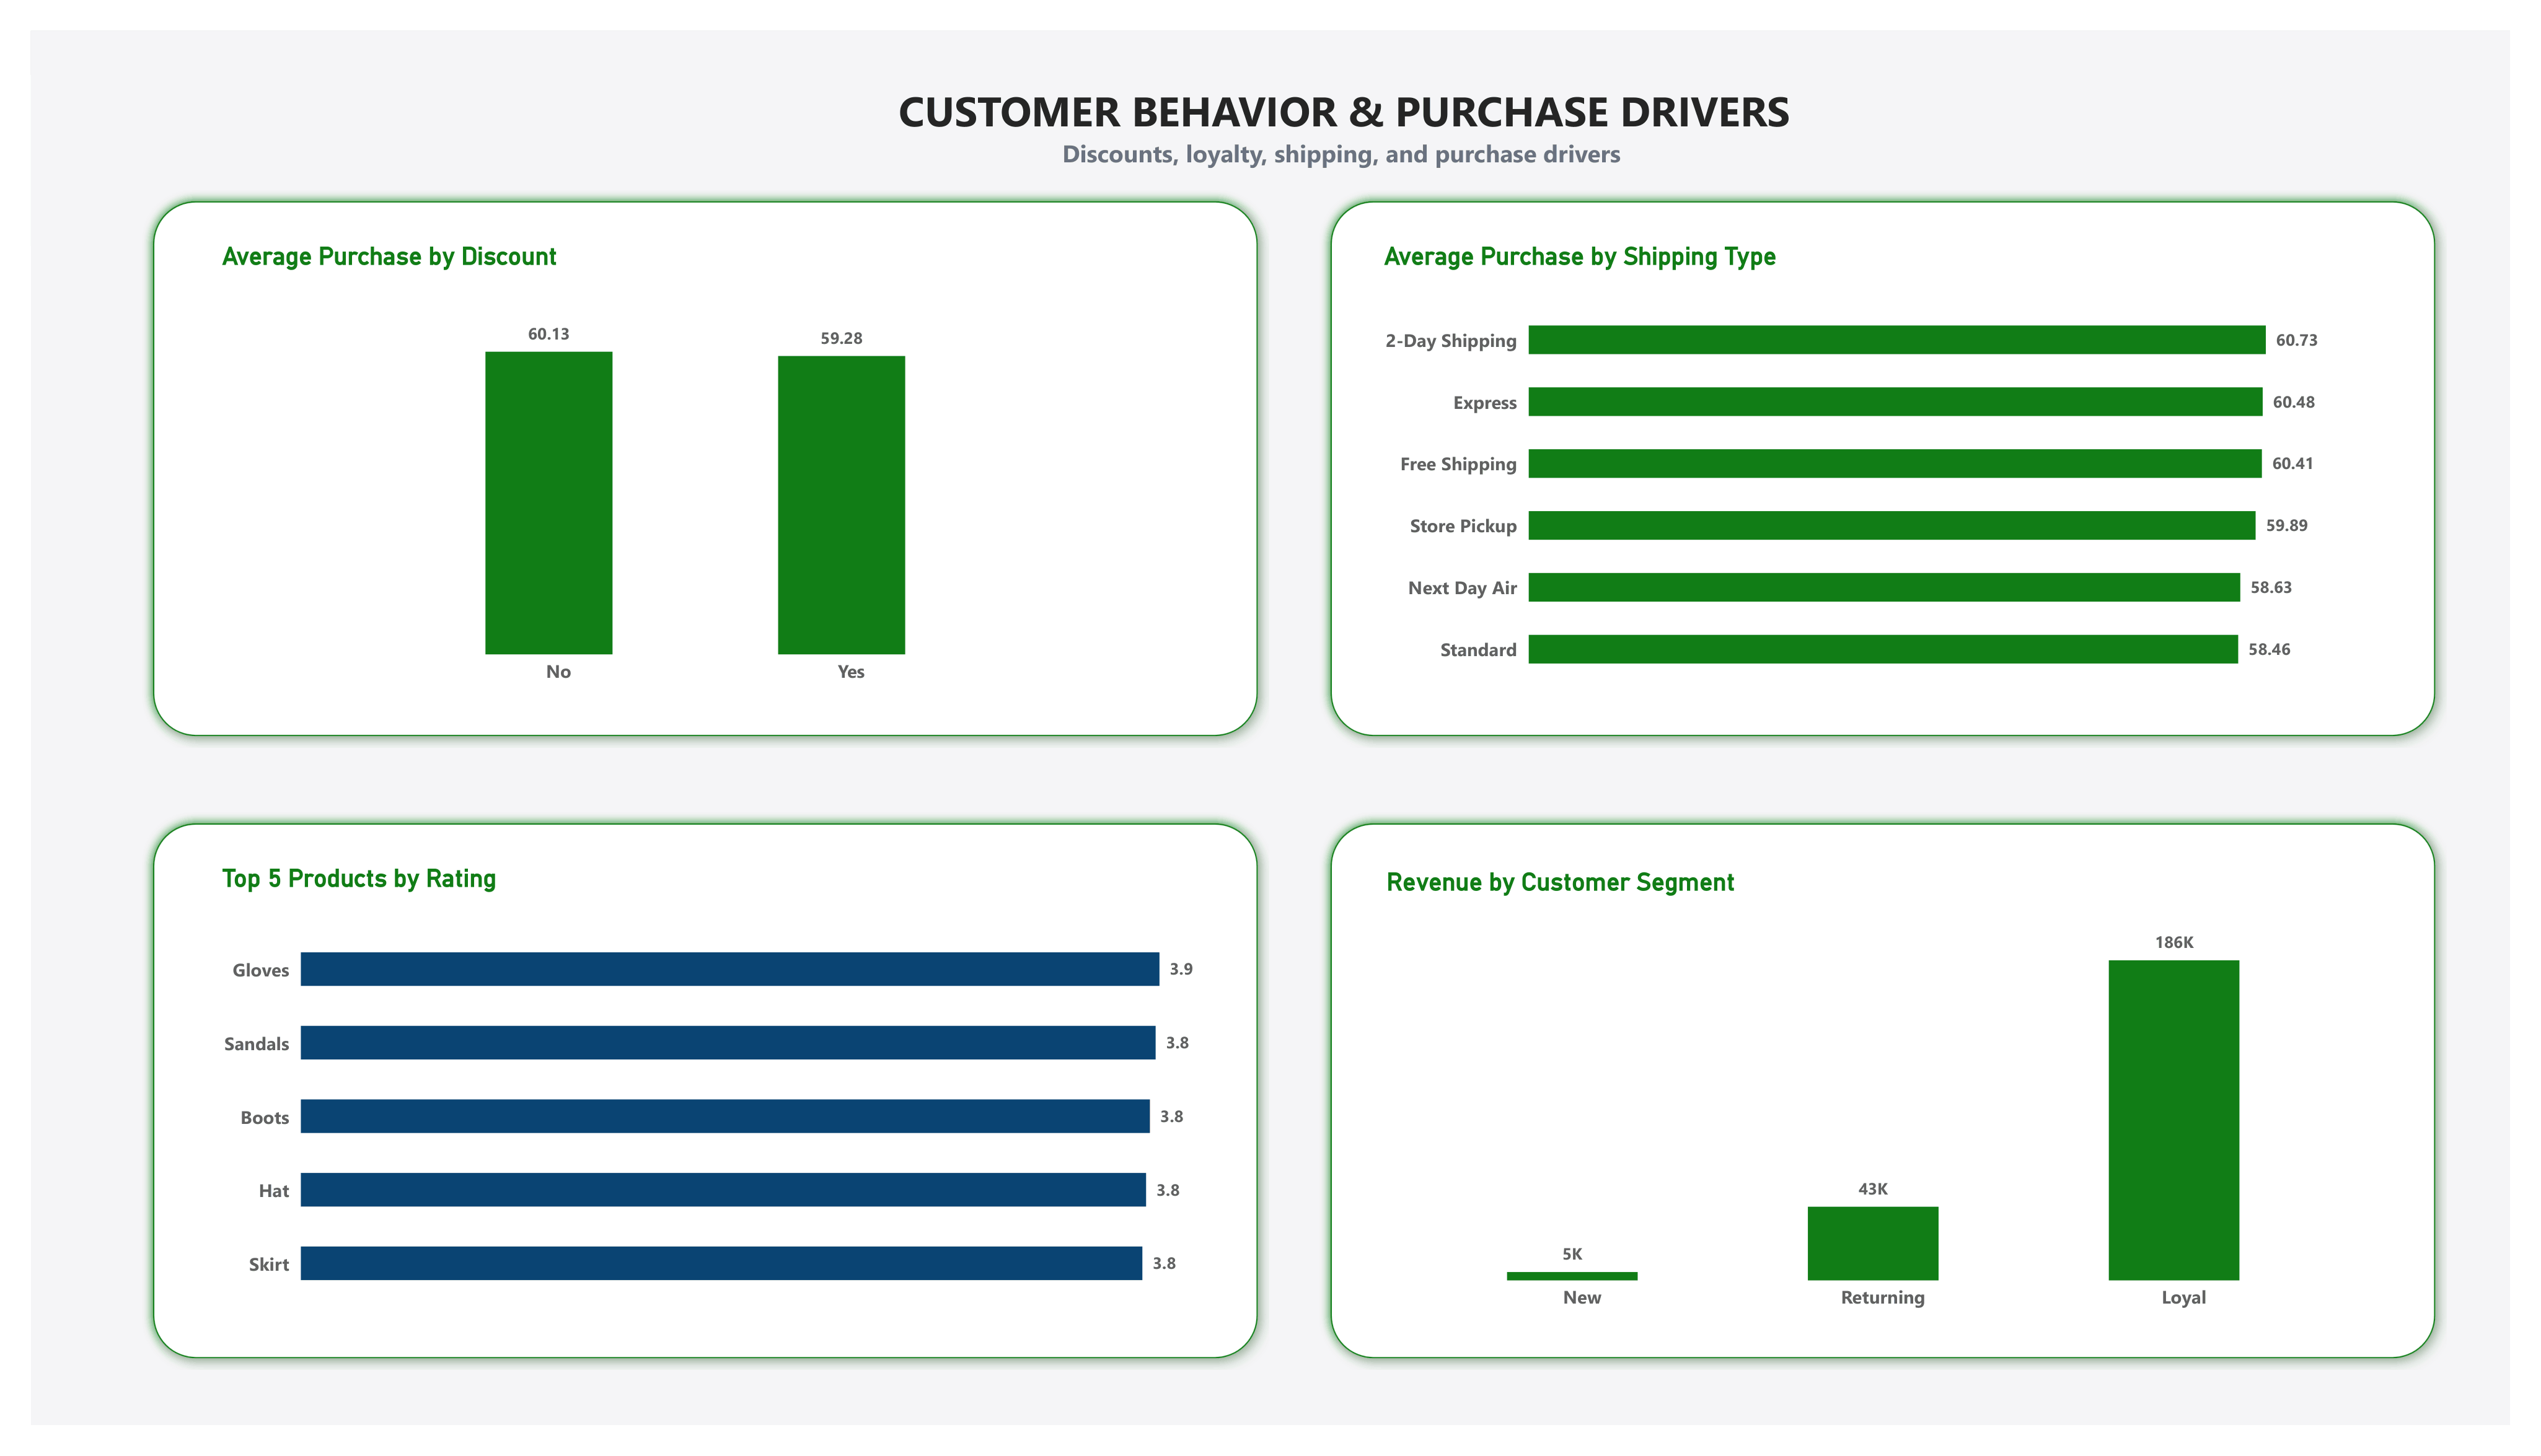

This screenshot's page, from the dashboard's own definition file:
{"tool":"powerbi","page":{"name":"Customer Behavior & Purchase Drivers","canvas":[1920,1080],"ordinal":1},"visuals":[{"type":"textbox","box":[671.8,38.9,704.2,43.2],"z":0},{"type":"textbox","box":[680.4,82.1,669.6,30.2],"z":1000},{"type":"shape","box":[86.4,604.8,872.6,432],"z":2000},{"type":"shape","box":[997.9,604.8,872.6,432],"z":3000},{"type":"shape","box":[86.4,123.1,872.6,432],"z":5000},{"type":"shape","box":[997.9,123.1,872.6,432],"z":7000},{"type":"clusteredBarChart","title":"Top 5 Products by Rating","fields":{"Category":["public customer.item_purchased"],"Y":["Avg(public customer.review_rating)"]},"box":[131.8,630.7,784.1,378],"z":8000},{"type":"clusteredColumnChart","title":"Average Purchase by Discount","fields":{"Category":["public customer.discount_applied"],"Y":["Avg(public customer.purchase_amount)"]},"box":[131.8,149,779.8,378],"z":8001},{"type":"clusteredBarChart","title":"Average Purchase by Shipping Type","fields":{"Category":["public customer.shipping_type"],"Y":["Avg(public customer.purchase_amount)"]},"box":[1032.5,149,801.4,378],"z":8002},{"type":"clusteredColumnChart","title":"Revenue by Customer Segment","fields":{"Category":["public customer.Customer Segment"],"Y":["Sum(public customer.purchase_amount)"]},"box":[1033.5,633.5,801.4,378],"z":8003}]}

Visuals, with their boxes on the page's 1920x1080 design canvas (x1, y1, x2, y2). These are canvas units, not pixel positions in the 2541x1456 screenshot, which may show the page scaled, cropped or inside an application window:
textbox: {"x1": 672, "y1": 39, "x2": 1376, "y2": 82}
textbox: {"x1": 680, "y1": 82, "x2": 1350, "y2": 112}
shape: {"x1": 86, "y1": 605, "x2": 959, "y2": 1037}
shape: {"x1": 998, "y1": 605, "x2": 1870, "y2": 1037}
shape: {"x1": 86, "y1": 123, "x2": 959, "y2": 555}
shape: {"x1": 998, "y1": 123, "x2": 1870, "y2": 555}
"Top 5 Products by Rating" clusteredBarChart: {"x1": 132, "y1": 631, "x2": 916, "y2": 1009}
"Average Purchase by Discount" clusteredColumnChart: {"x1": 132, "y1": 149, "x2": 912, "y2": 527}
"Average Purchase by Shipping Type" clusteredBarChart: {"x1": 1032, "y1": 149, "x2": 1834, "y2": 527}
"Revenue by Customer Segment" clusteredColumnChart: {"x1": 1034, "y1": 634, "x2": 1835, "y2": 1012}
